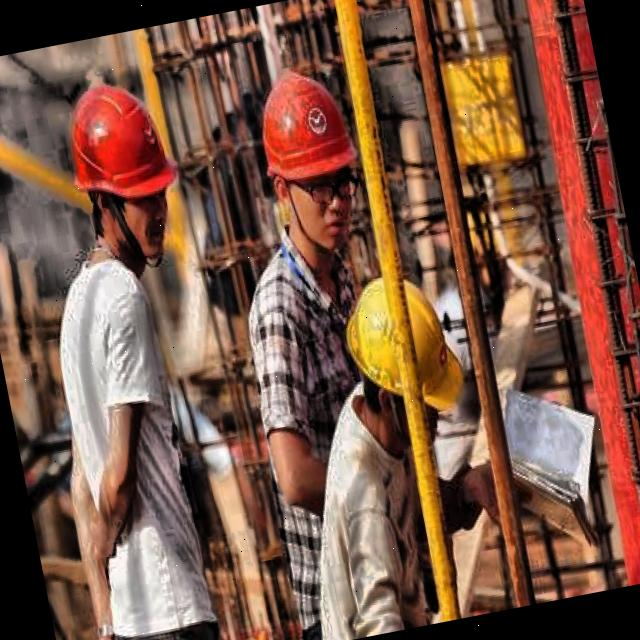helmet: (48, 52, 200, 284), (233, 46, 383, 277), (328, 250, 474, 478)
